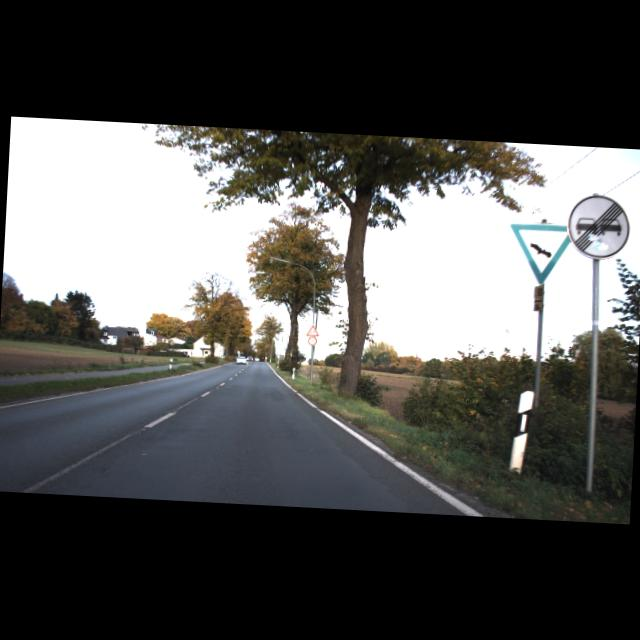danger: (306, 324, 319, 336)
other: (566, 193, 631, 260)
prohibitory: (308, 336, 316, 345)
